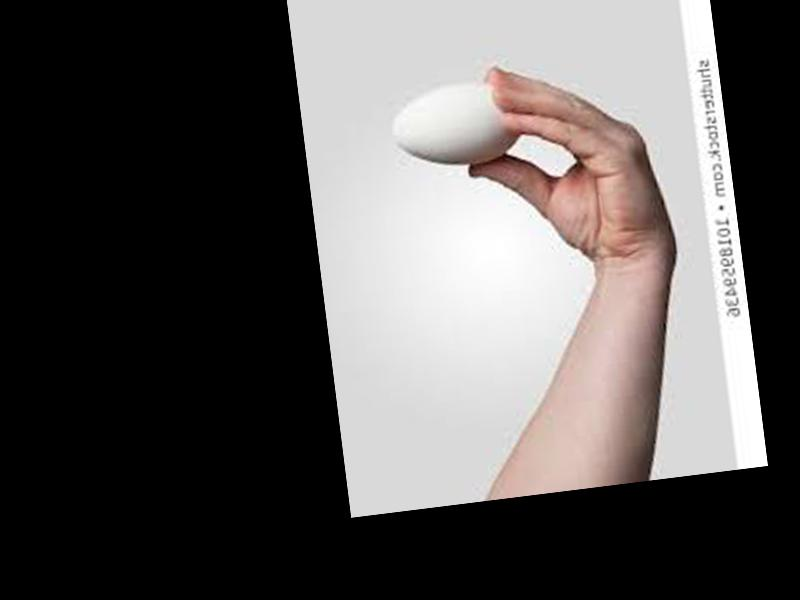Eggs: (385, 74, 525, 174)
